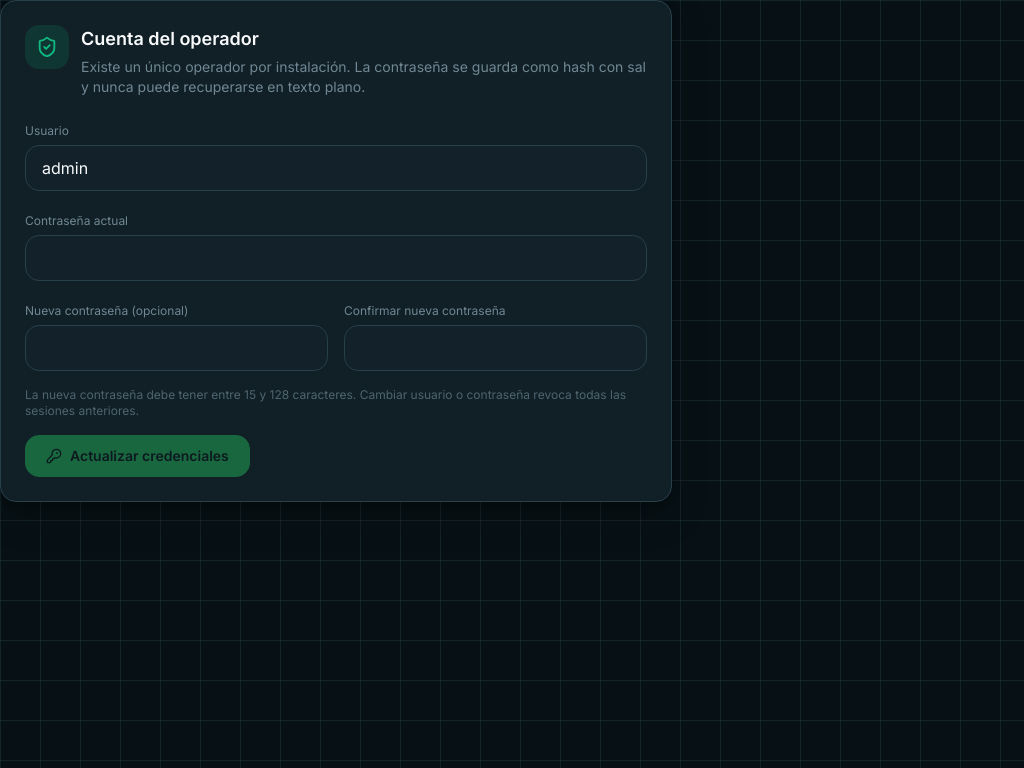
Scenario: blocks a mismatched password confirmation before sending a request
Type "current password from manager" into the password field labelled "Contraseña actual". click: (336, 258)
box: [25,235,647,281]
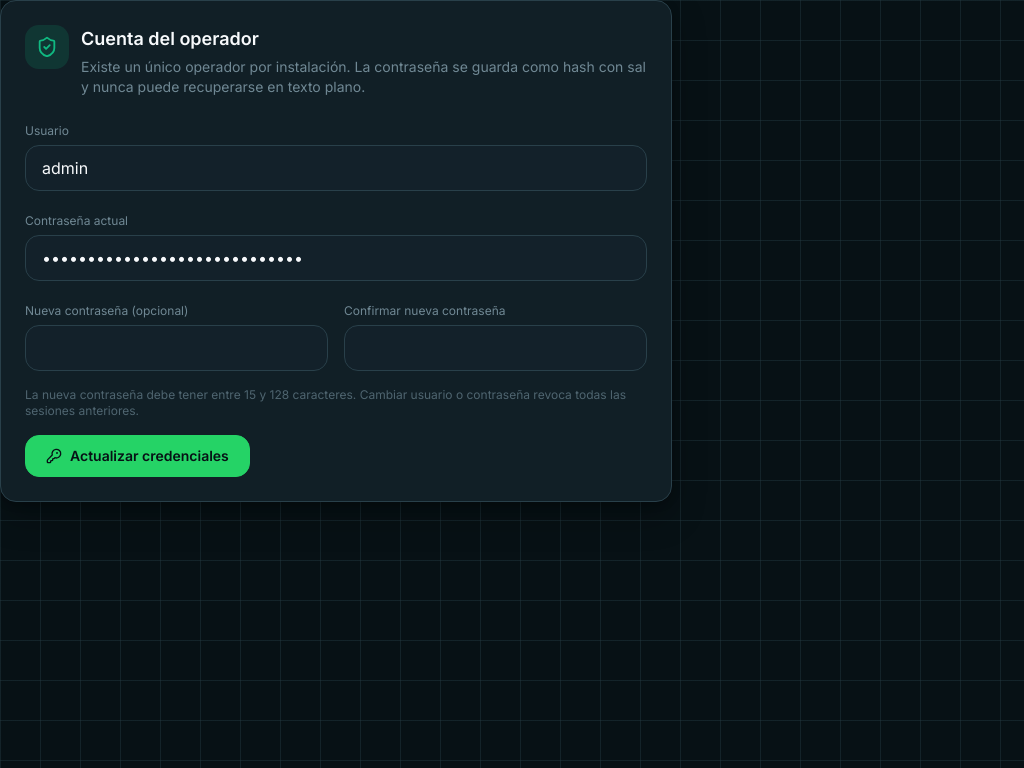
Type "new password from manager 2026" into the password field labelled "Nueva contraseña (opcional)". click: (176, 348)
box: [25,325,328,371]
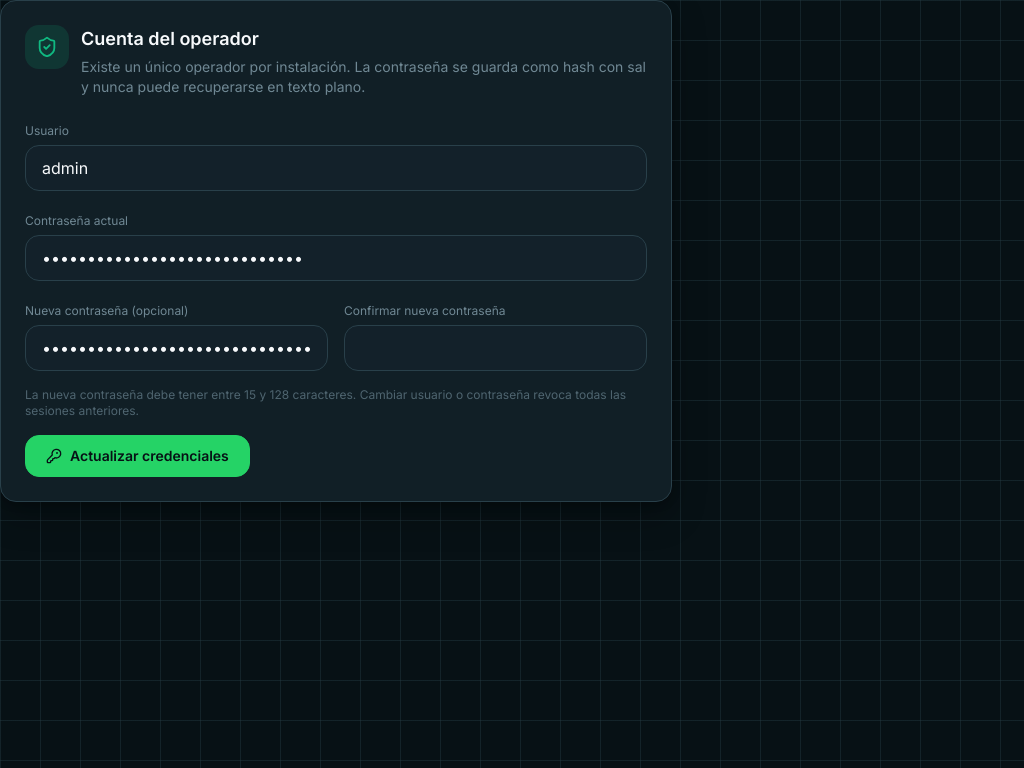
Type "different password from manager" into the password field labelled "Confirmar nueva contraseña". click: (496, 348)
box: [344,325,647,371]
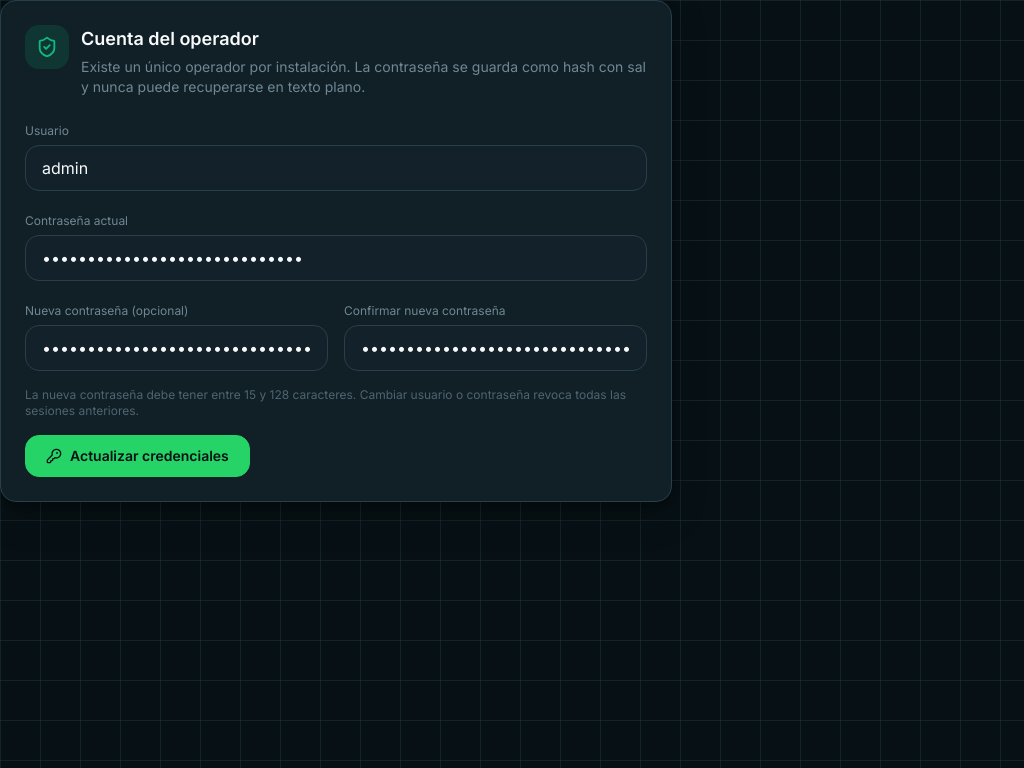
Click the button "Actualizar credenciales". click: (137, 456)
box: [25,435,250,477]
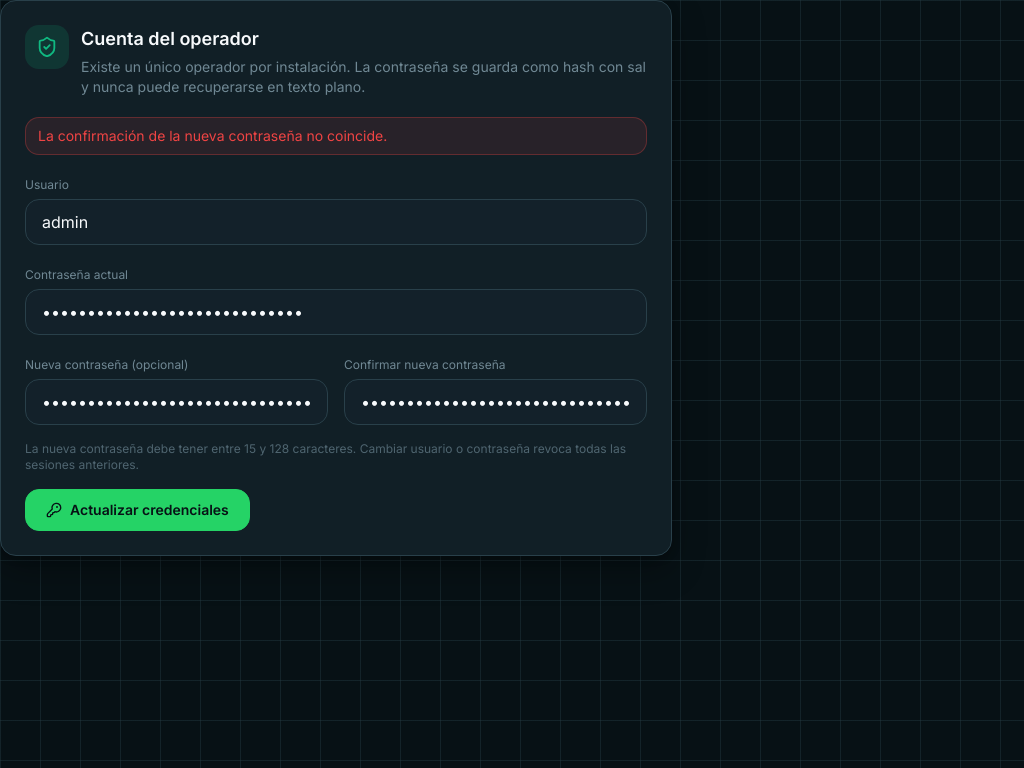
Expected: the message shows "no coincide", [38,127,387,144]
